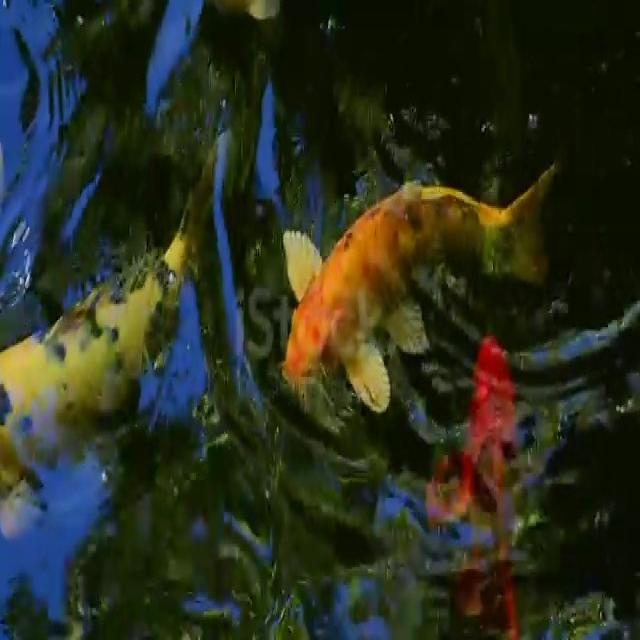fish: (272, 142, 576, 439), (0, 181, 217, 527), (448, 321, 538, 640)
